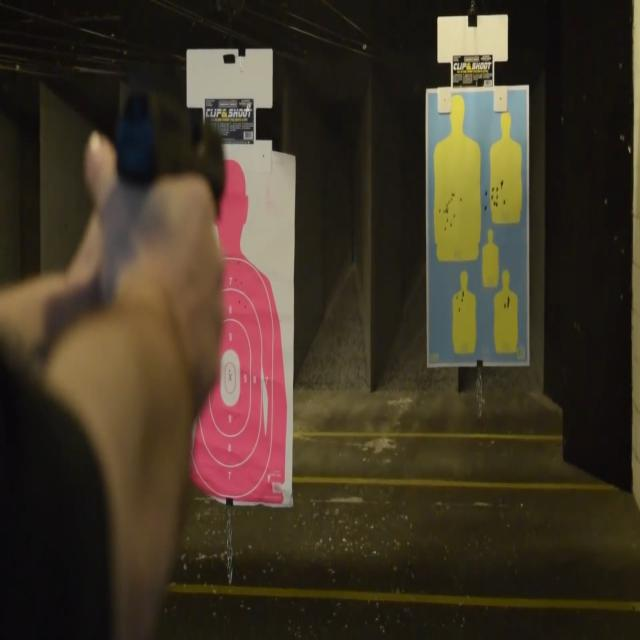handgun: (100, 77, 248, 344)
